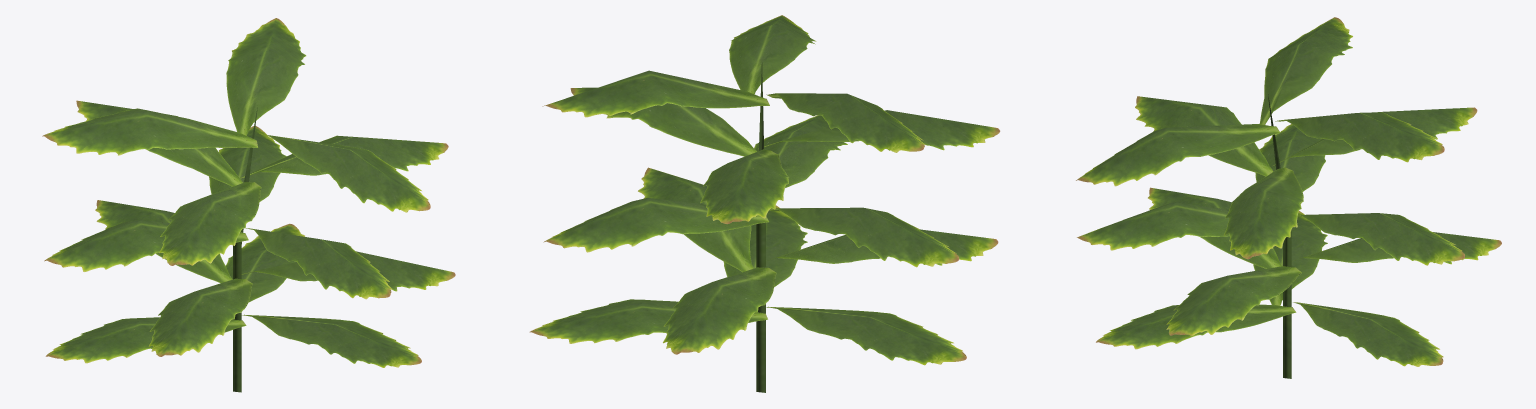
Rendered from plant_005.dae.
3 renders of one model, left to right at view 1: azimuth 30°, elevation 25°; view 2: azimuth 150°, elevation 25°; view 3: azimuth 270°, elevation 25°, orthographic. The views are drawn at different scales.
Parts seen in each view (by area): view 1: Plant_005; view 2: Plant_005; view 3: Plant_005.
Part boxes in pixels (bbox=[...]): Plant_005: bbox=[42, 18, 455, 392]; Plant_005: bbox=[529, 15, 1000, 392]; Plant_005: bbox=[1076, 17, 1501, 378].
Size of the model in its own units: 2.44 by 1.73 by 2.48.
